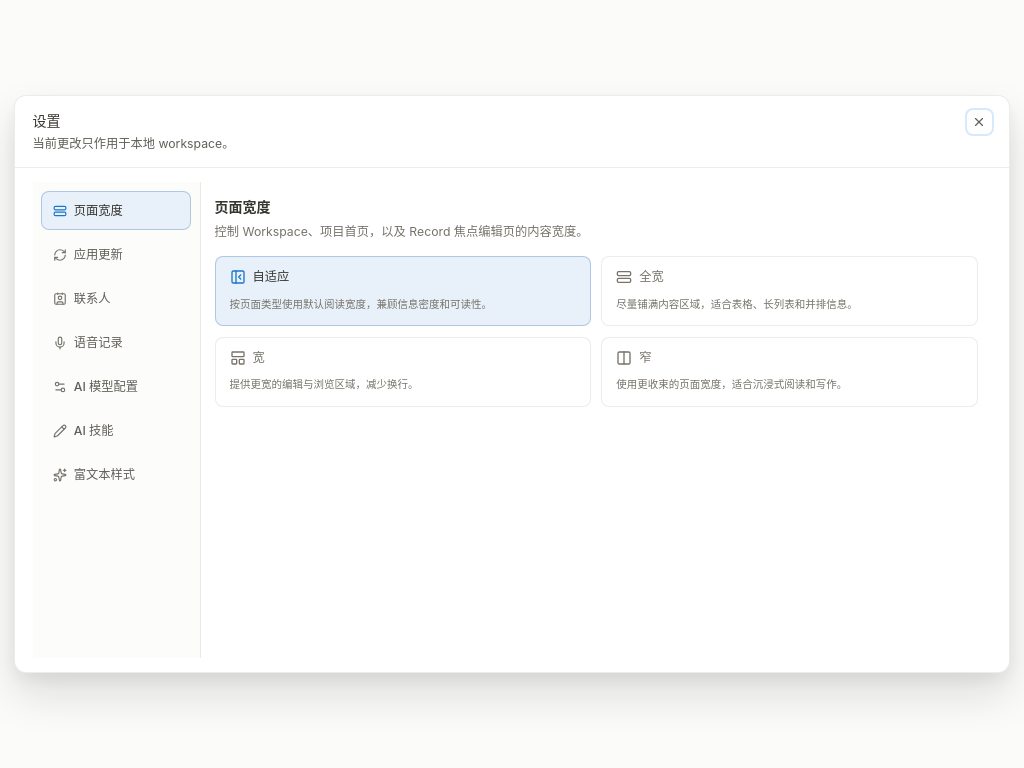
SettingsDialog › lets the user open the application update section
Click the button "应用更新".
click(116, 254)  # box [41, 235, 191, 274]
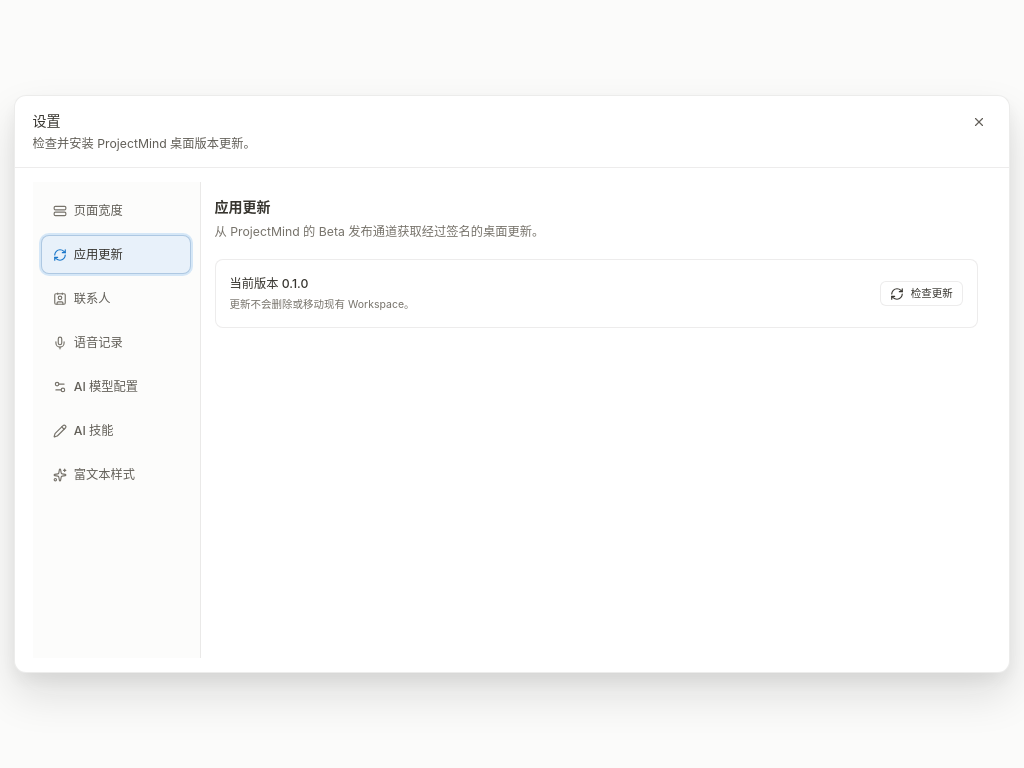
Check: the element with test id "update-settings-panel" is shown, box [214, 196, 978, 328]
Check: the text "当前版本 0.1.0" is shown, box [230, 276, 308, 291]
